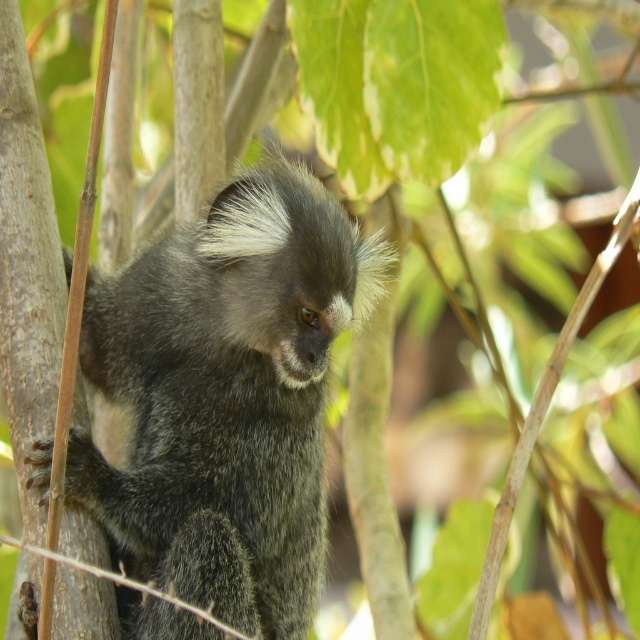Monkey: (16, 142, 396, 640)
